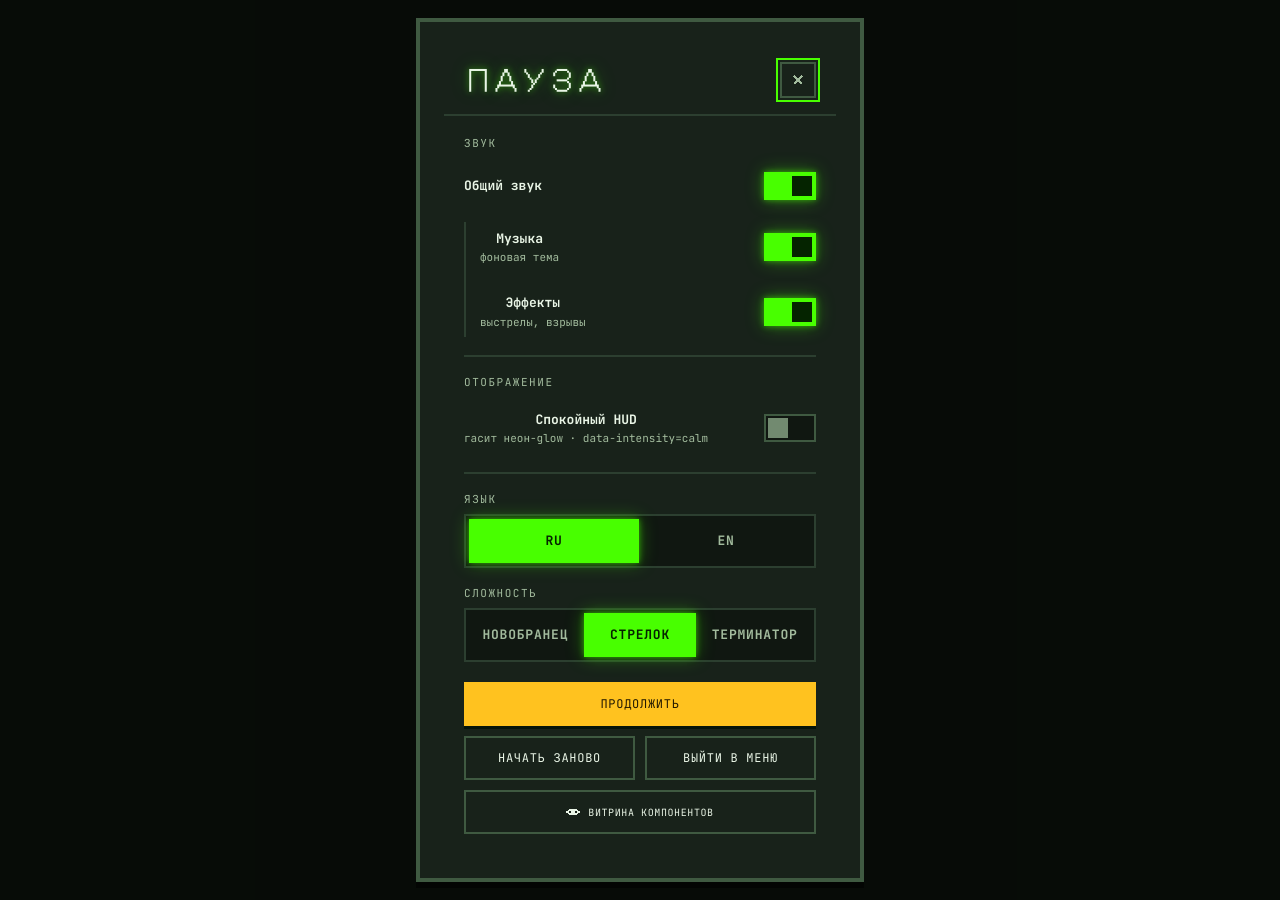
Test: PauseOverlay › disables music and fx switches when the general sound is off
Click the switch labelled "Общий звук" at (503, 185), box [464,164,816,208]
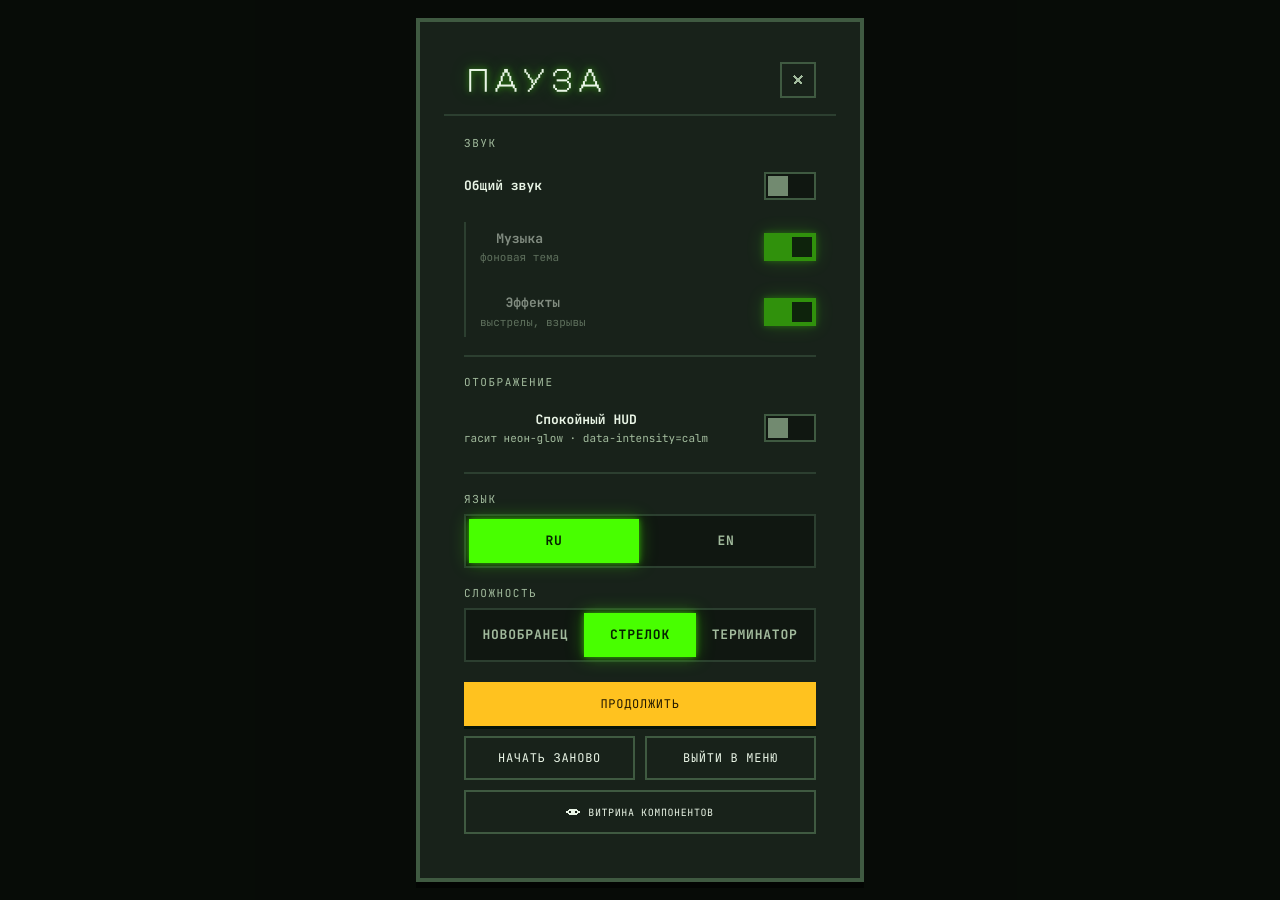
Expected: the switch labelled "Музыка фоновая тема" is disabled, [480,222,816,272]
Expected: the switch labelled "Эффекты выстрелы, взрывы" is disabled, [480,286,816,337]
